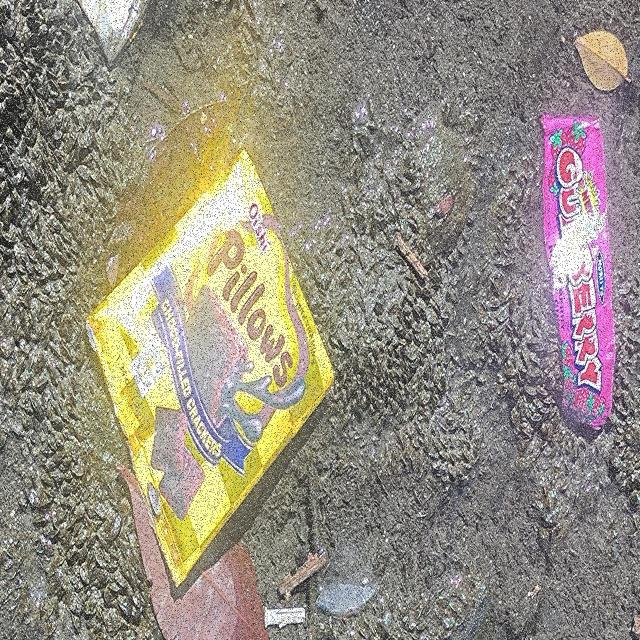plastic_waste: (85, 147, 338, 591), (541, 113, 618, 433)
